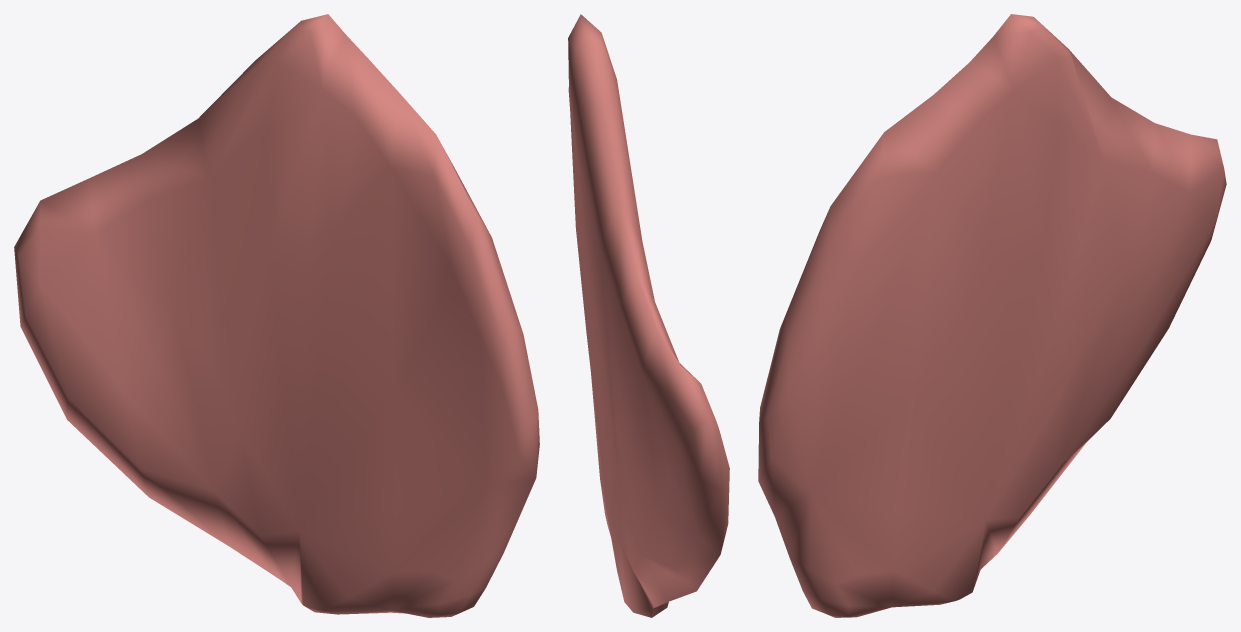
3 views of the same model, side by side, from view 1: azimuth 30°, elevation 25°; view 2: azimuth 150°, elevation 25°; view 3: azimuth 270°, elevation 25° (orthographic). The views are drawn at different scales.
Parts seen in each view (by area): view 1: ZA_be8c6b5ebca663b6; view 2: ZA_be8c6b5ebca663b6; view 3: ZA_be8c6b5ebca663b6.
Boxes of the visible parts, x1,y1,x2,y2 form: ZA_be8c6b5ebca663b6: [14, 14, 539, 617]; ZA_be8c6b5ebca663b6: [568, 14, 729, 617]; ZA_be8c6b5ebca663b6: [758, 14, 1226, 617].
Size of the model in its own units: 0.00377 by 0.00641 by 0.00454.
